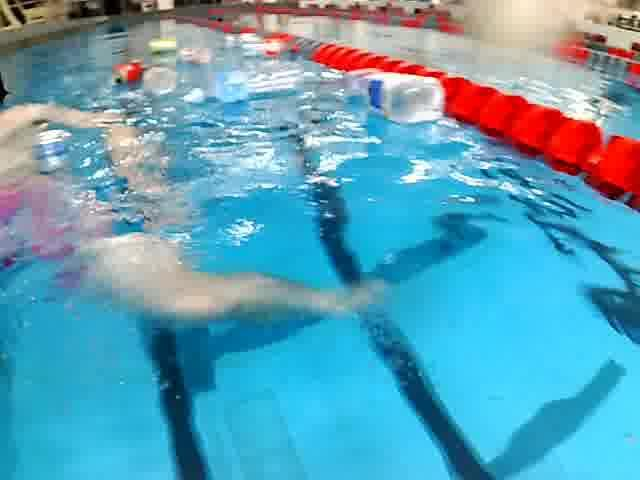Bottle: (337, 66, 447, 123)
Can: (30, 131, 76, 176), (108, 56, 146, 90)
